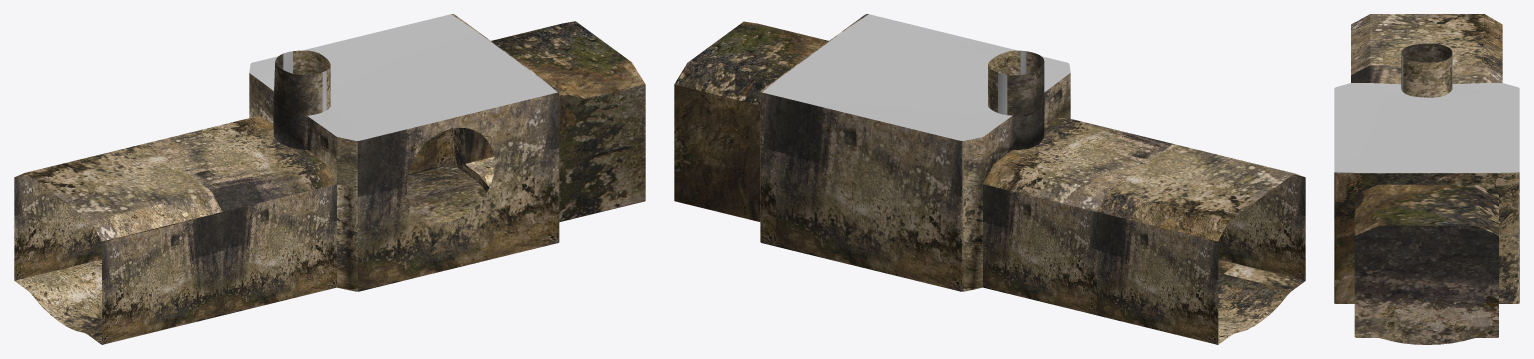
File: Zatop.fbx
The picture shows the model from 3 angles, left to right: view 1: azimuth 30°, elevation 25°; view 2: azimuth 150°, elevation 25°; view 3: azimuth 270°, elevation 25°; orthographic projection. The views are drawn at different scales.
Parts seen in each view (by area): view 1: Cube.004, Cube.006, Cube.048; view 2: Cube.004, Cube.006, Cube.048; view 3: Cube.004, Cube.006, Cube.048.
Part boxes in pixels (bbox=[...]): Cube.004: bbox=[249, 14, 645, 291]; Cube.006: bbox=[14, 143, 223, 344]; Cube.048: bbox=[146, 115, 336, 315]; Cube.004: bbox=[674, 14, 1070, 291]; Cube.006: bbox=[1097, 144, 1305, 344]; Cube.048: bbox=[983, 116, 1172, 315]; Cube.004: bbox=[1334, 43, 1519, 344]; Cube.006: bbox=[1351, 14, 1502, 75]; Cube.048: bbox=[1351, 65, 1502, 84].
Size of the model in its own units: 1484 by 515 by 504.
